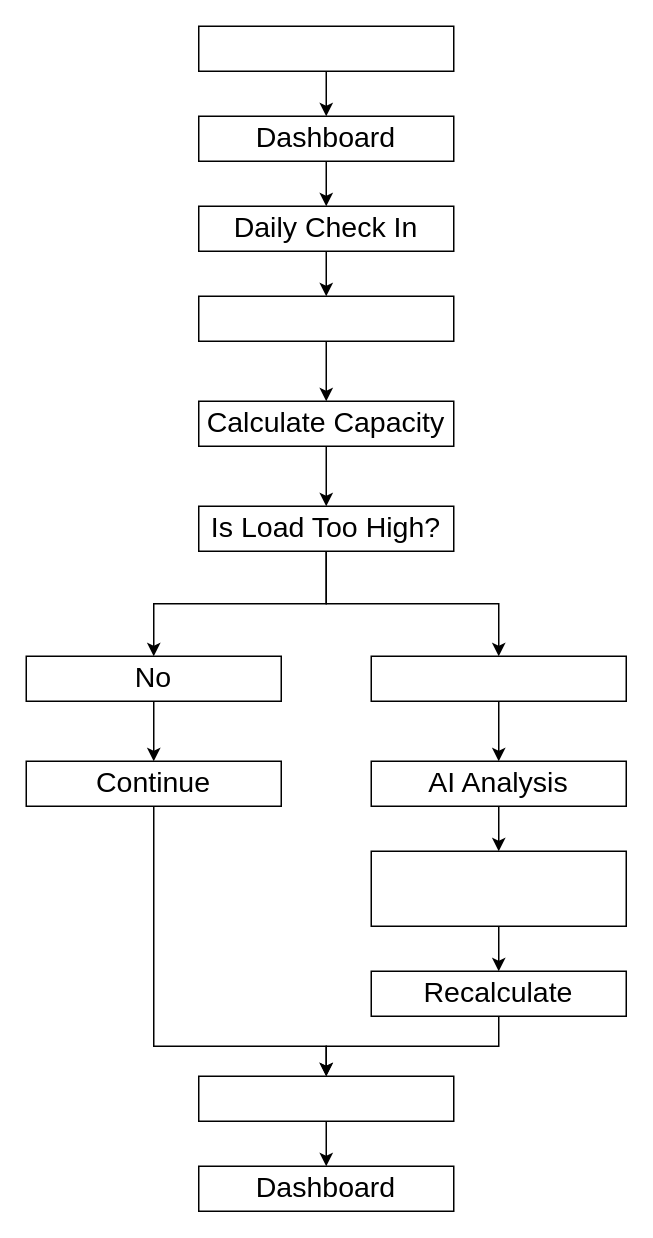
Image size: 653x1238. Some labels were removed from this diagram. Here are the shapes that lost their labels. From the top down, the centre of each, then its label:
At (325,48): "Onboard".
At (325,318): "Add Task".
At (498,678): "Yes".
At (498,888): "Move / Postpone / Reduce / Recover".
At (325,1098): "Balanced".
